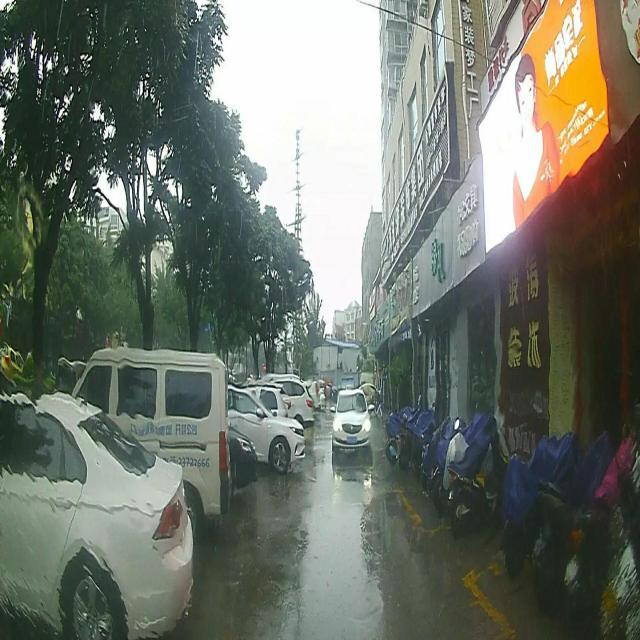car: (0, 388, 195, 638), (58, 339, 232, 518), (204, 384, 306, 474), (329, 386, 374, 456)
